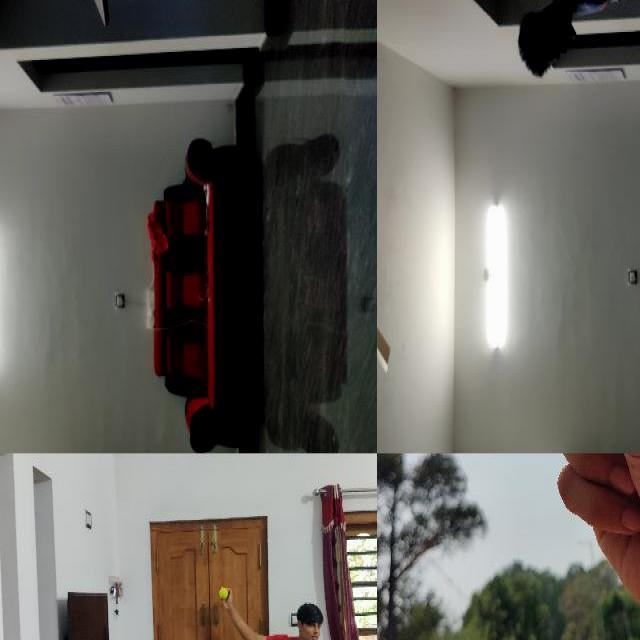tennis-ball: (219, 588, 228, 600)
